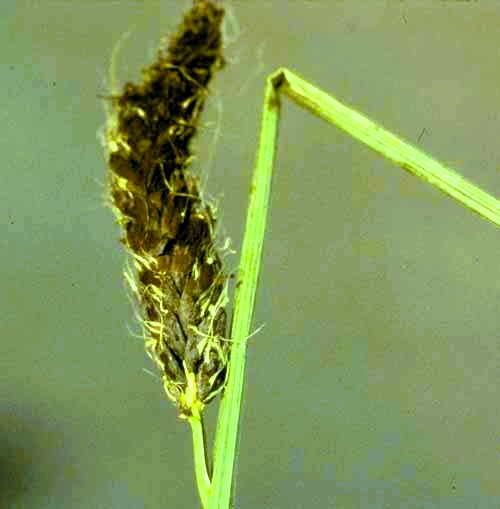Wheat Loose Smut: (104, 52, 235, 377)
